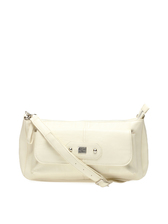bag: (16, 102, 158, 188)
